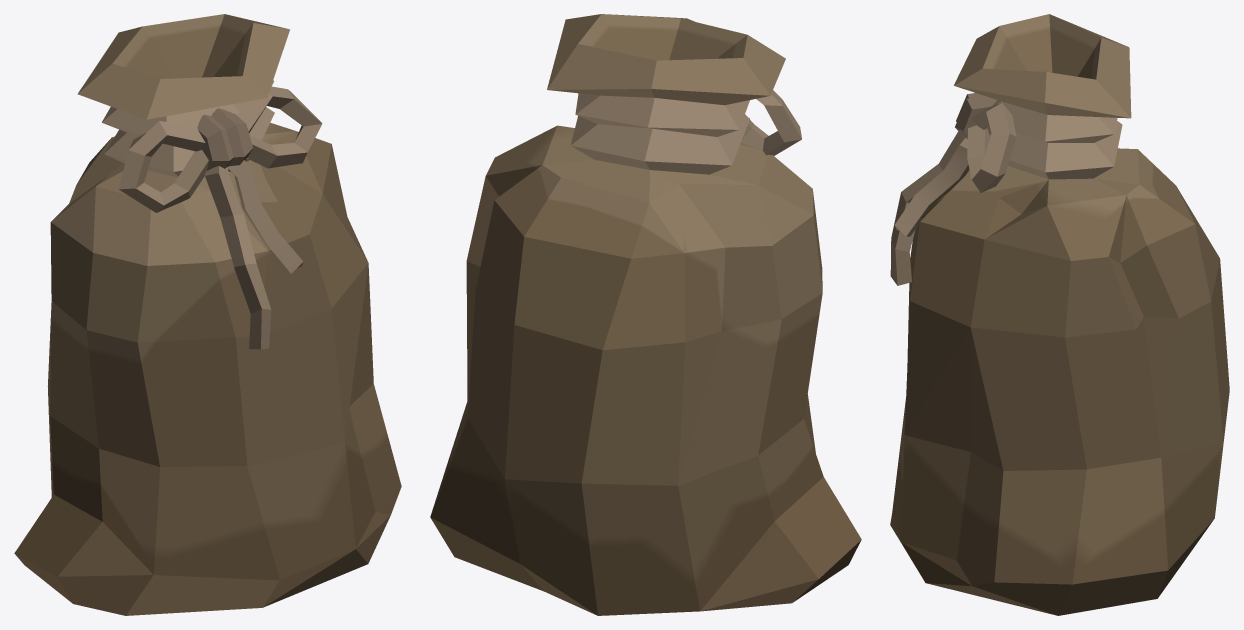
File: SM_Prop_Sack_01.fbx
The picture shows the model from 3 angles, left to right: view 1: azimuth 30°, elevation 25°; view 2: azimuth 150°, elevation 25°; view 3: azimuth 270°, elevation 25°; orthographic projection. The views are drawn at different scales.
Parts seen in each view (by area): view 1: SM_Prop_Sack_01; view 2: SM_Prop_Sack_01; view 3: SM_Prop_Sack_01.
Boxes of the visible parts, <box> form: SM_Prop_Sack_01: <box>14,14,401,615</box>; SM_Prop_Sack_01: <box>430,14,861,615</box>; SM_Prop_Sack_01: <box>890,14,1229,615</box>.
Bounding box in the file's own units: 54.15 × 72.2 × 45.64.
